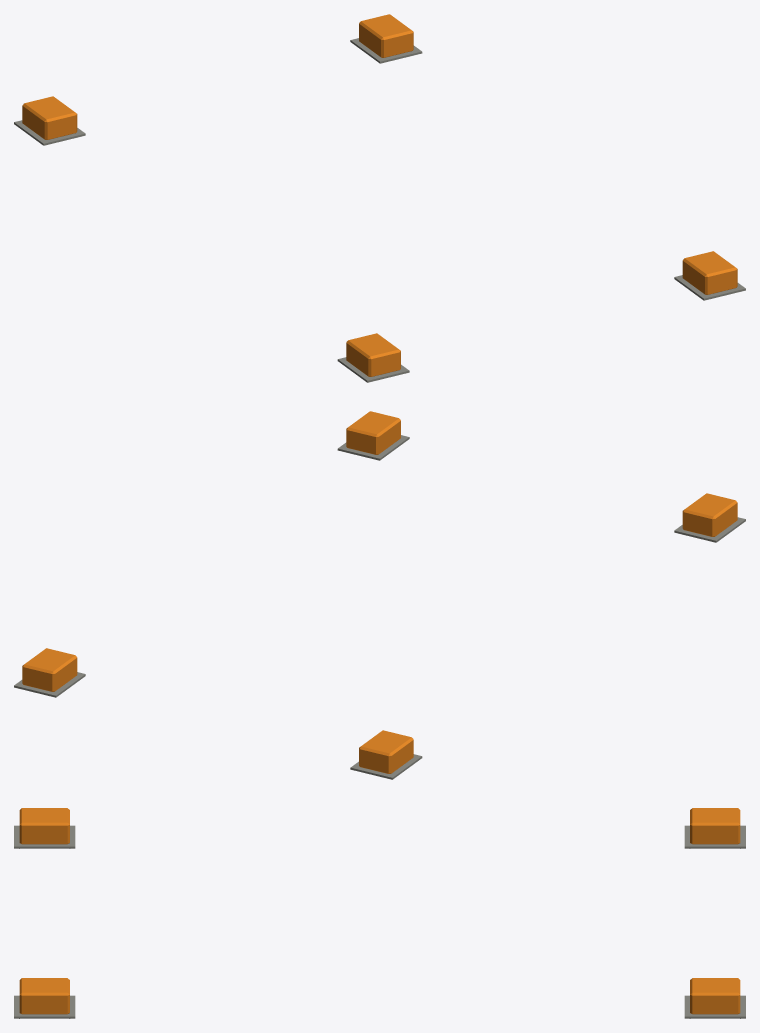
The model's file is bunk500_mounts.obj.
3 renders of one model, top to bottom at view 1: azimuth 30°, elevation 25°; view 2: azimuth 150°, elevation 25°; view 3: azimuth 270°, elevation 25°, orthographic. The views are drawn at different scales.
Parts seen in each view (by area): view 1: bunk500_mounts; view 2: bunk500_mounts; view 3: bunk500_mounts.
Boxes of the visible parts, box(x1,y1,x2,y2) form: bunk500_mounts: box(14, 14, 745, 382); bunk500_mounts: box(14, 411, 745, 779); bunk500_mounts: box(14, 808, 745, 1018).
Size of the model in its own units: 8.1 by 0.48 by 13.1.
